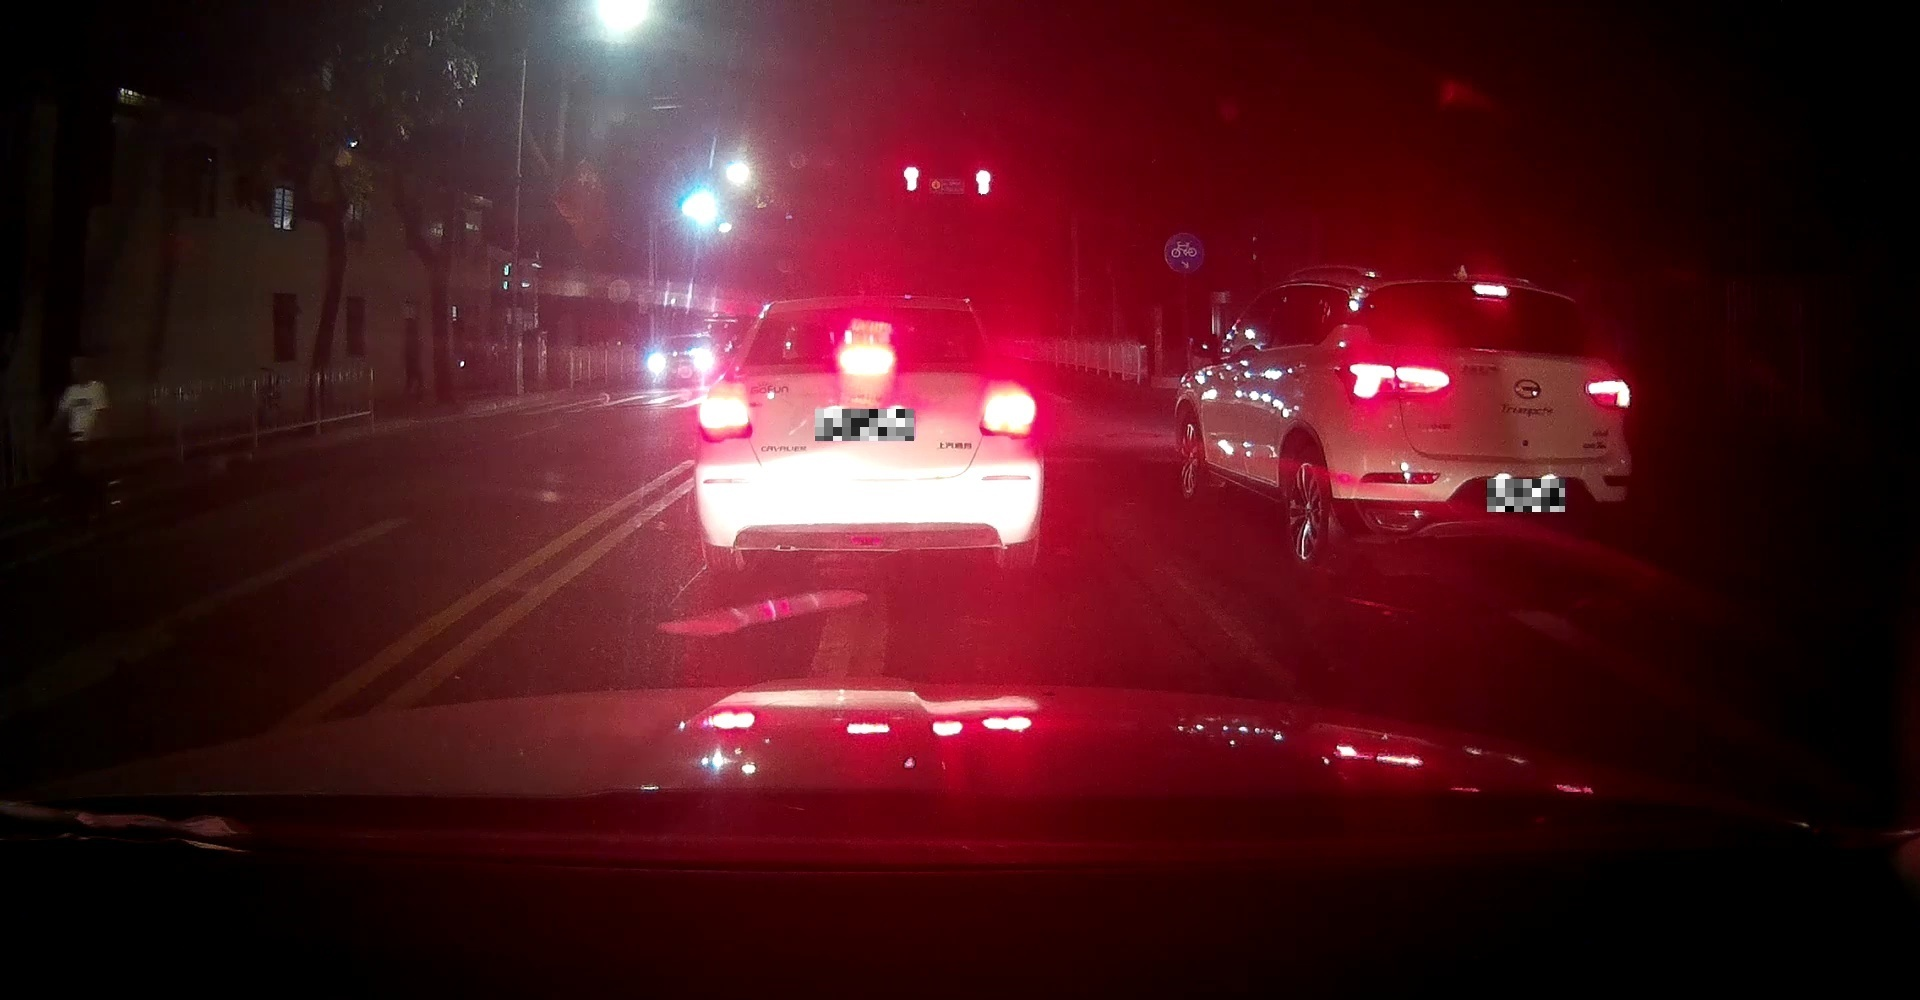L_light: (1332, 362, 1454, 405), (697, 393, 752, 443)
R_light: (979, 390, 1036, 439), (1583, 378, 1633, 409)
T_light: (838, 346, 897, 371), (1470, 283, 1509, 299)
night-brake: (692, 294, 1044, 574), (1328, 266, 1636, 569)
plate_1: (815, 409, 914, 442)
plate_2: (1487, 478, 1564, 511)
